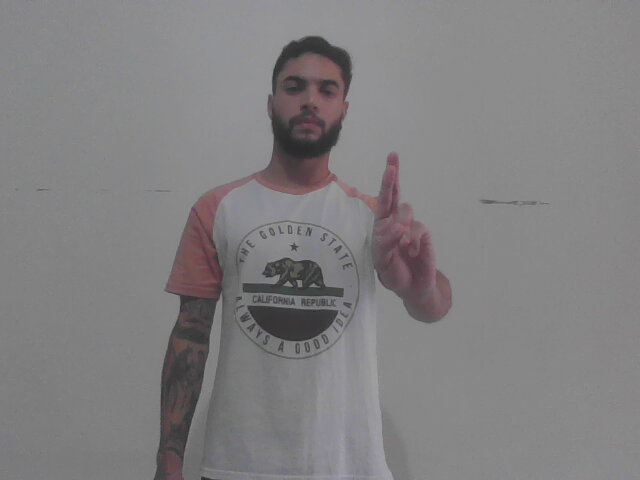r: (364, 149, 446, 293)
